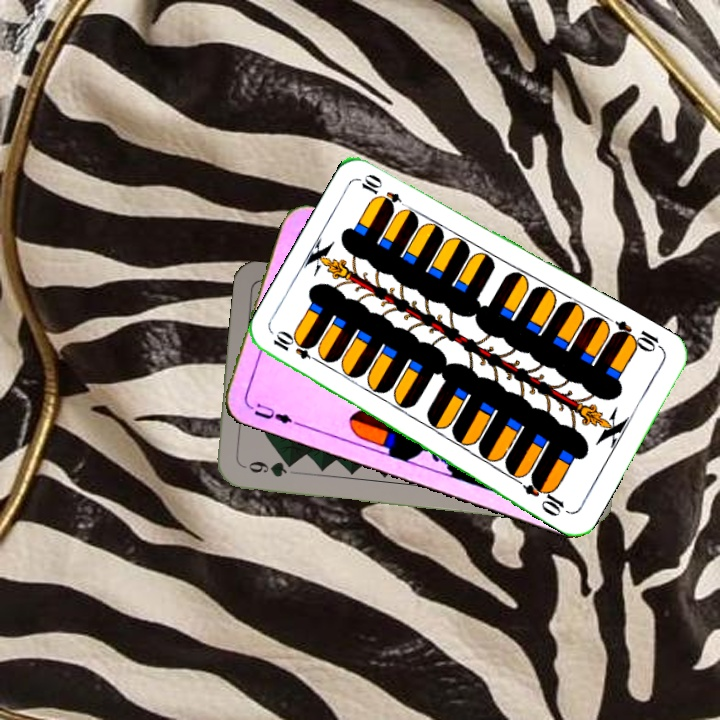E10: (608, 316, 666, 355), (268, 329, 325, 366)
EU: (243, 399, 301, 428)
G9: (239, 457, 297, 480)
